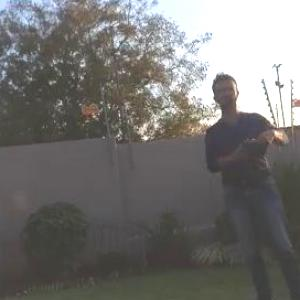follow: (203, 56, 299, 299)
